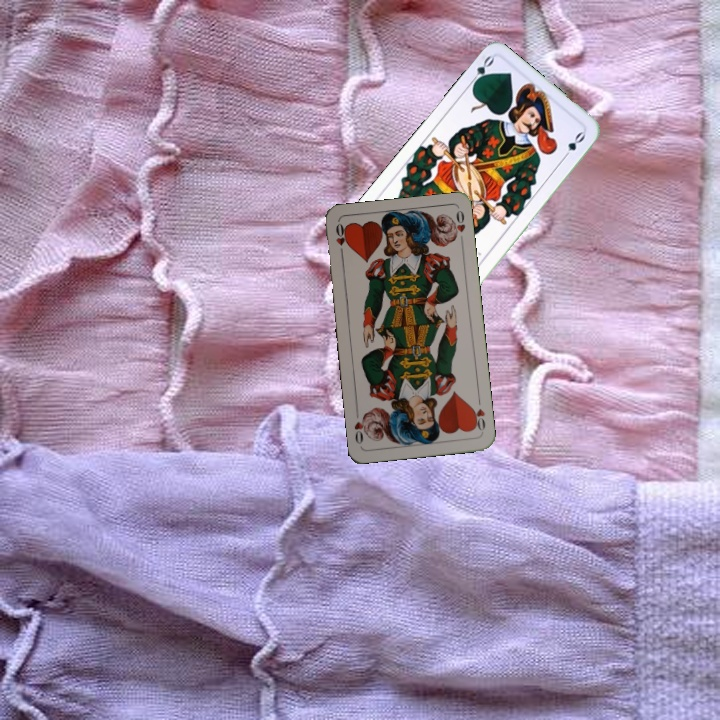GO: (465, 52, 496, 89)
HO: (468, 394, 488, 435), (332, 219, 349, 260)
